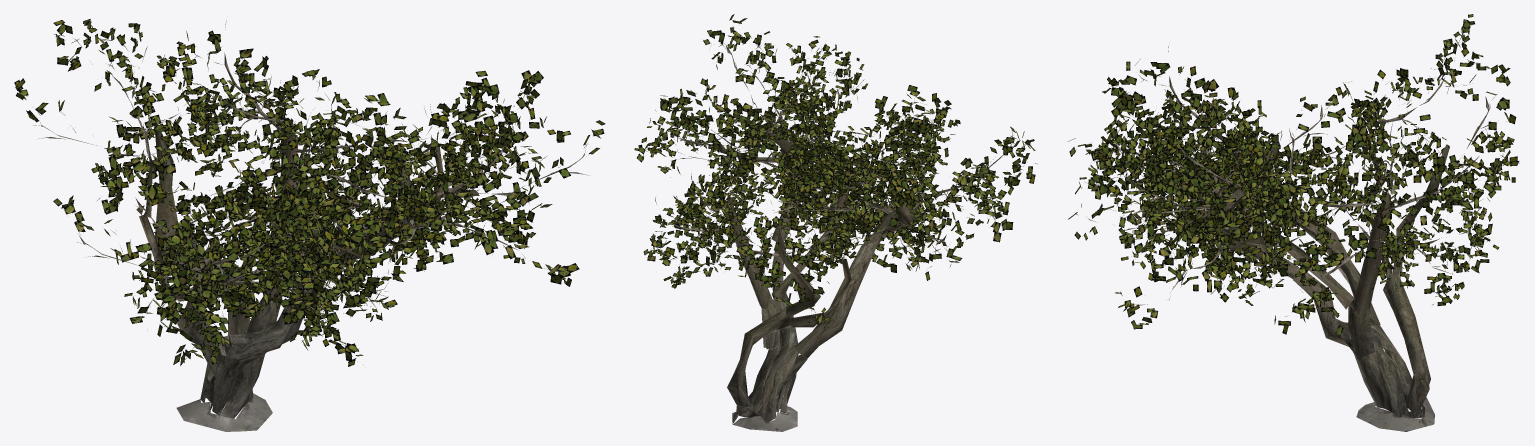
The model's file is island_tree_02.glb.
3 views of the same model, side by side, from view 1: azimuth 30°, elevation 25°; view 2: azimuth 150°, elevation 25°; view 3: azimuth 270°, elevation 25° (orthographic). The views are drawn at different scales.
Visible parts, largest first — view 1: island_tree_02_LOD0.002, island_tree_02_LOD0.001, island_tree_02_LOD0; view 2: island_tree_02_LOD0.002, island_tree_02_LOD0.001, island_tree_02_LOD0; view 3: island_tree_02_LOD0.002, island_tree_02_LOD0.001, island_tree_02_LOD0.
Boxes of the visible parts, bbox=[...] form: island_tree_02_LOD0.002: bbox=[14, 19, 605, 366]; island_tree_02_LOD0.001: bbox=[136, 123, 479, 431]; island_tree_02_LOD0: bbox=[22, 21, 589, 359]; island_tree_02_LOD0.002: bbox=[634, 14, 1035, 328]; island_tree_02_LOD0.001: bbox=[715, 116, 919, 431]; island_tree_02_LOD0: bbox=[646, 26, 1037, 315]; island_tree_02_LOD0.002: bbox=[1068, 14, 1519, 336]; island_tree_02_LOD0.001: bbox=[1183, 106, 1449, 431]; island_tree_02_LOD0: bbox=[1074, 25, 1519, 328].
Size of the model in its own units: 3.89 by 3.38 by 4.03.
3 materials, 3 textured.
